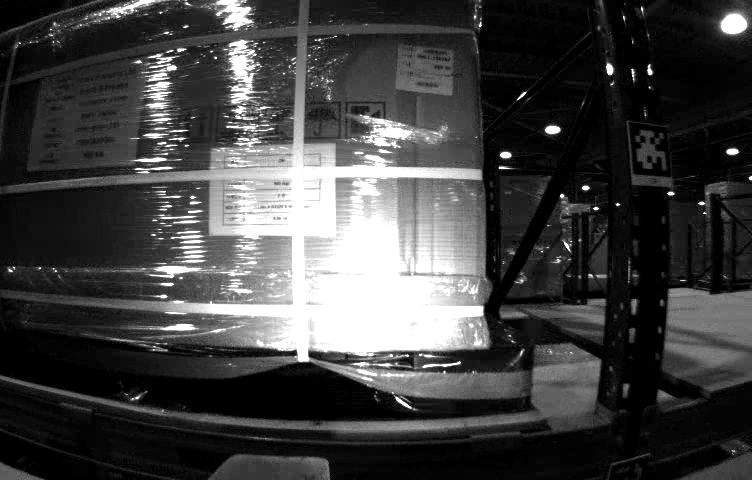True Barcode: (398, 45, 453, 93)
